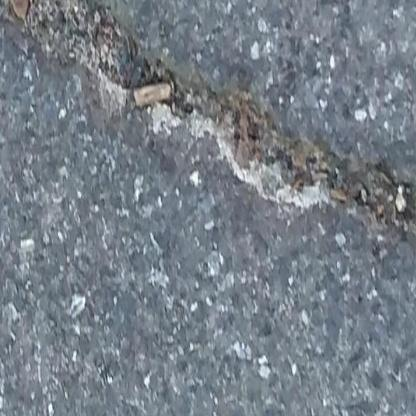Cracks: (0, 0, 416, 252)
